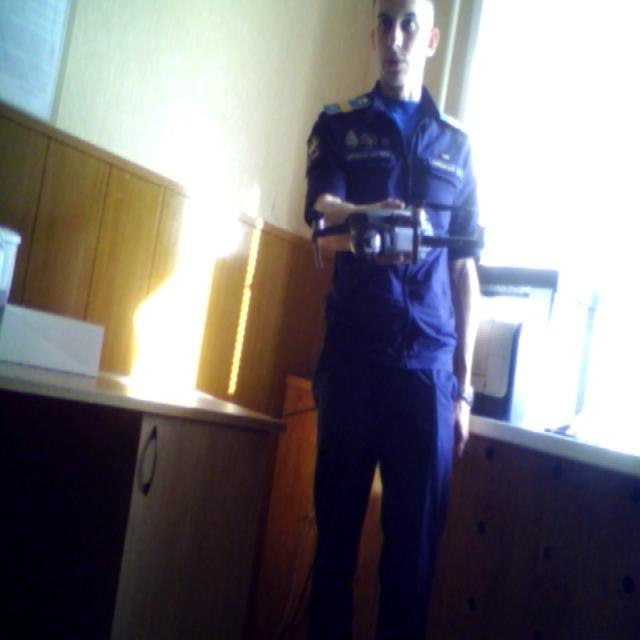drone: (296, 177, 506, 281)
